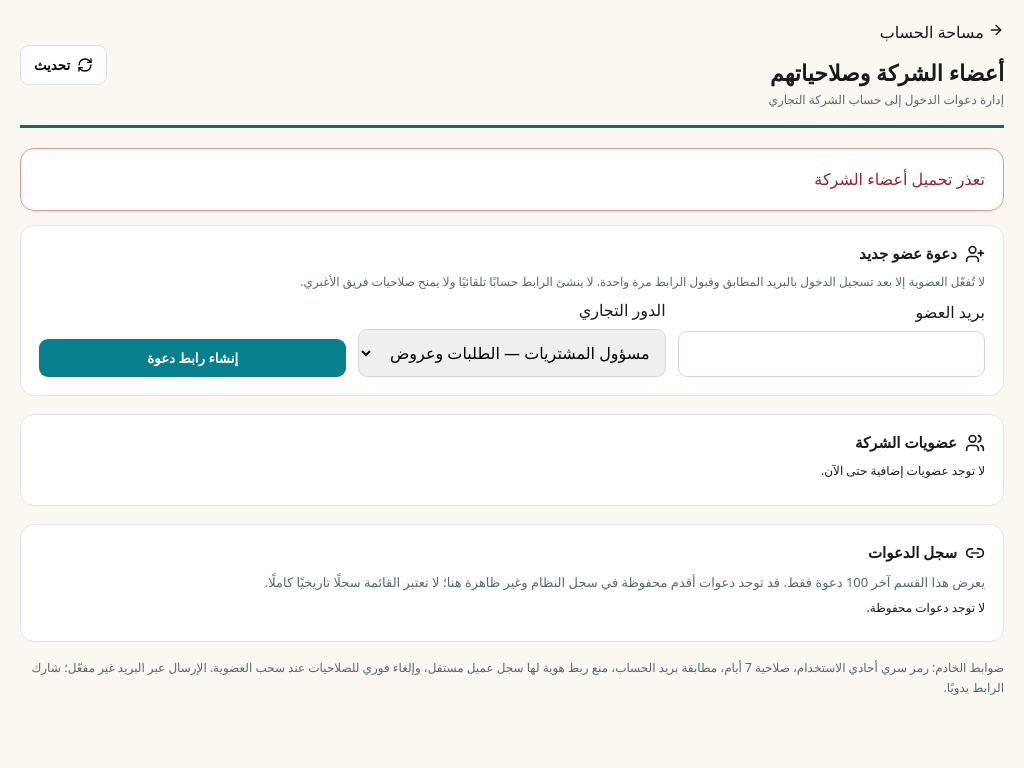
customer company membership screens › keeps invitation creation disabled until the company workspace is confirmed and supports retry
The width and height of the screenshot is (1024, 768).
Expected: the message reads "تعذر تحميل أعضاء الشركة", [814,168,985,190]
Expected: the button "إنشاء رابط دعوة" is disabled, [39,339,346,377]
Step 1. Click the button "تحديث" → (64, 65), box [20,45,107,85]
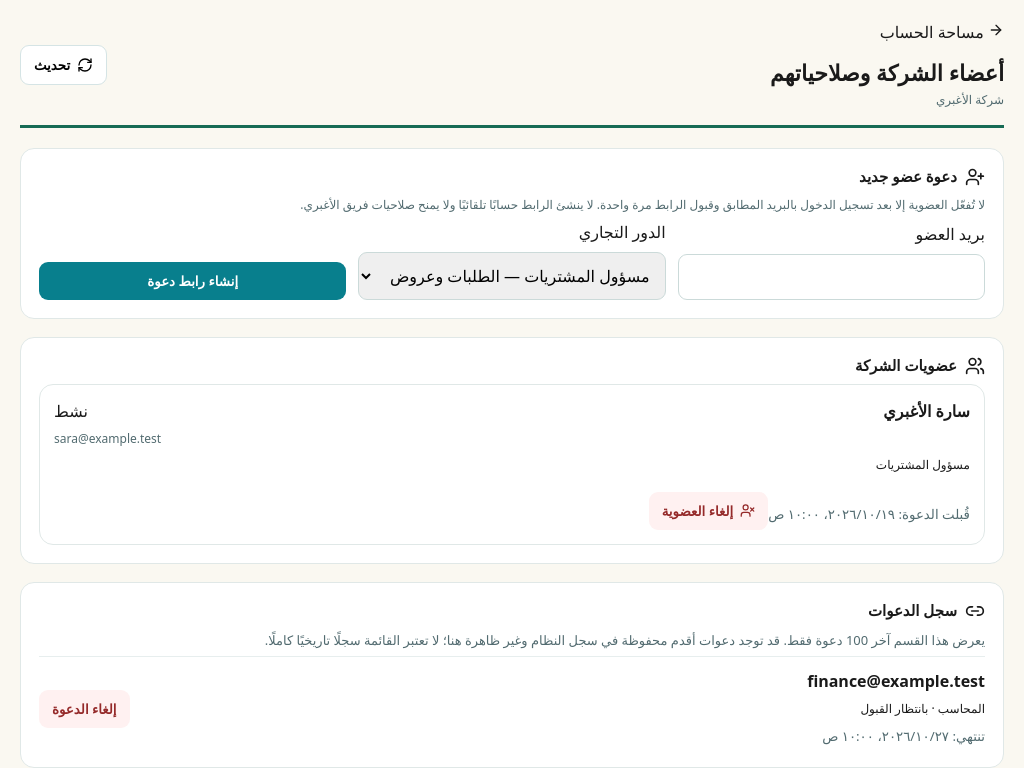
Expected: the text "سارة الأغبري" is shown, [883,399,970,424]
Expected: the button "إنشاء رابط دعوة" is enabled, [39,262,346,300]
